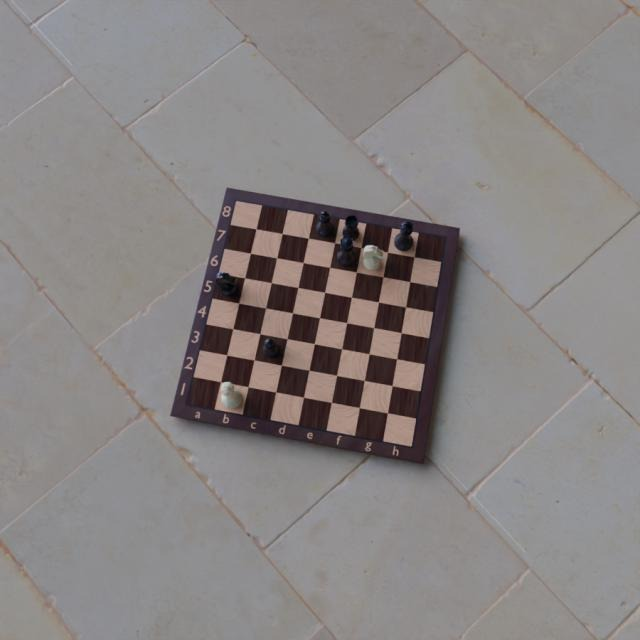black-bishop: (315, 210, 333, 238)
black-king: (393, 219, 415, 252)
black-knight: (214, 270, 238, 297)
black-pawn: (263, 337, 279, 359)
black-queen: (336, 236, 356, 268)
black-rook: (342, 214, 360, 242)
white-king: (219, 381, 243, 409)
white-knight: (362, 243, 384, 271)
